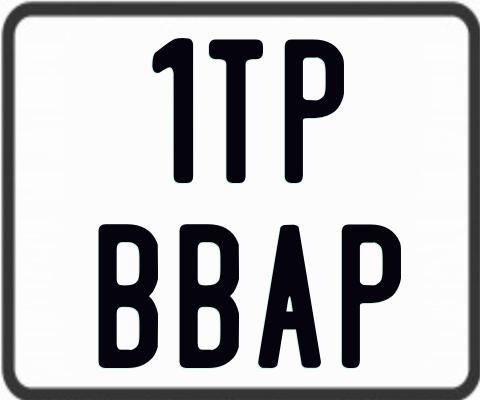1: (150, 36, 194, 181)
A: (255, 223, 321, 370)
B: (96, 223, 157, 373), (180, 224, 243, 369)
P: (283, 36, 345, 180), (342, 224, 402, 368)
T: (208, 36, 268, 180)
